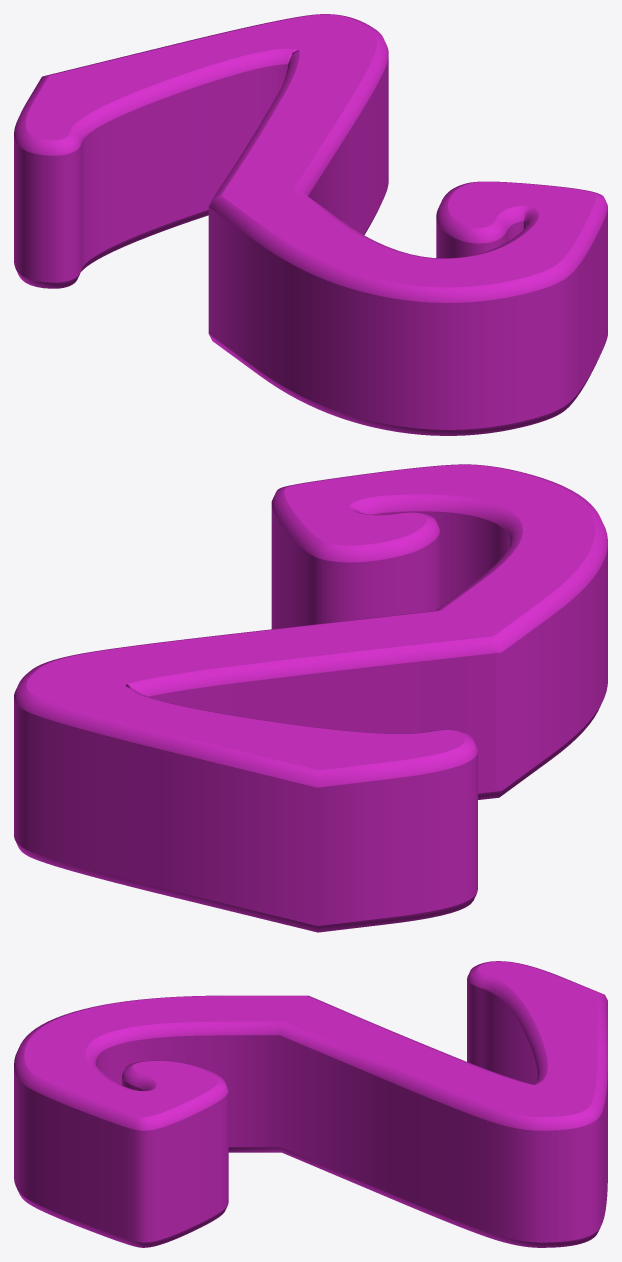
The model's file is Number_2.fbx.
3 views of the same model, one above another, from view 1: azimuth 30°, elevation 25°; view 2: azimuth 150°, elevation 25°; view 3: azimuth 270°, elevation 25° (orthographic). The views are drawn at different scales.
Visible parts, largest first — view 1: Number_2; view 2: Number_2; view 3: Number_2.
Part boxes in pixels (x1,y1,x2,y2): Number_2: [14, 14, 607, 435]; Number_2: [14, 464, 607, 932]; Number_2: [14, 961, 607, 1247].
Size of the model in its own units: 0.3787 by 0.14 by 0.578.
